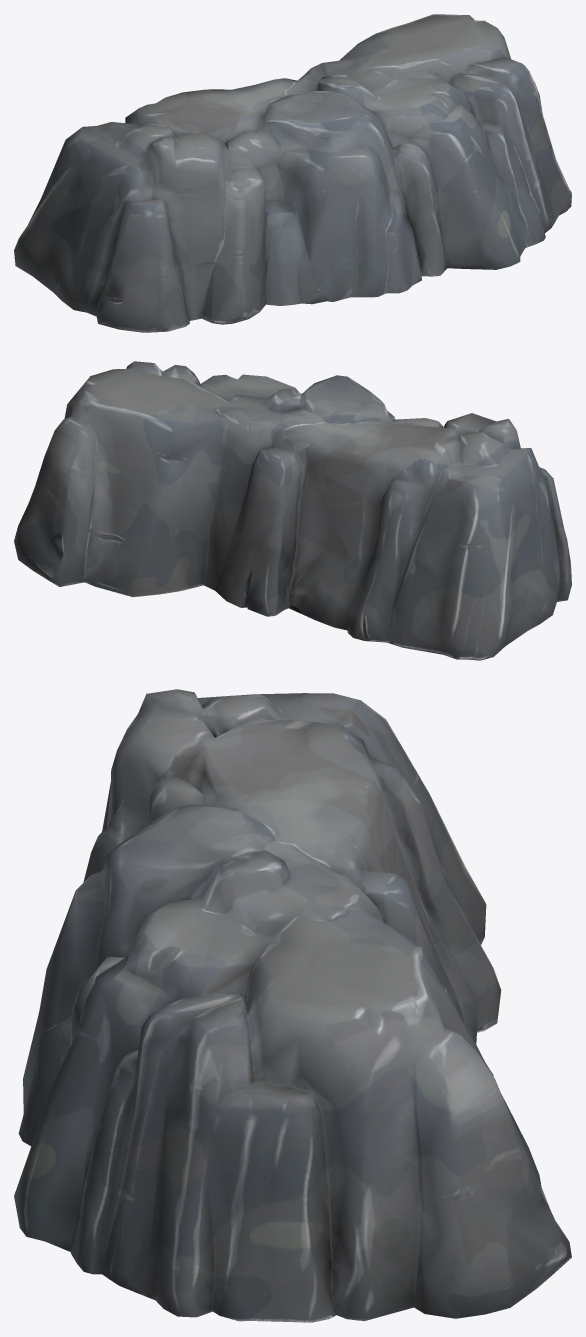
Rendered from cliff.glb.
3 renders of one model, top to bottom at view 1: azimuth 30°, elevation 25°; view 2: azimuth 150°, elevation 25°; view 3: azimuth 270°, elevation 25°, orthographic. The views are drawn at different scales.
Visible parts, largest first — view 1: SM_HB_Rock_Cliff; view 2: SM_HB_Rock_Cliff; view 3: SM_HB_Rock_Cliff.
Part boxes in pixels (x1,y1,x2,y2): SM_HB_Rock_Cliff: (14, 14, 571, 332); SM_HB_Rock_Cliff: (14, 361, 571, 660); SM_HB_Rock_Cliff: (14, 689, 571, 1322).
Bounding box in the file's own units: 18.3 × 5.89 × 10.48.
1 material, 1 textured.
